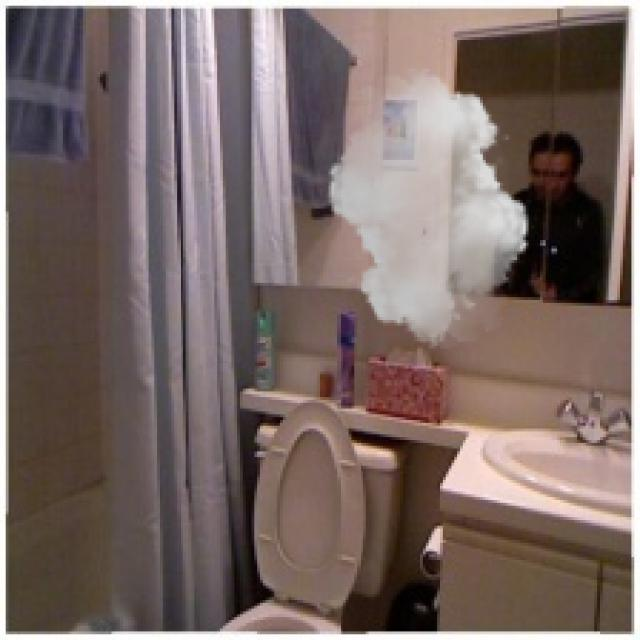smoke: (320, 69, 537, 348)
